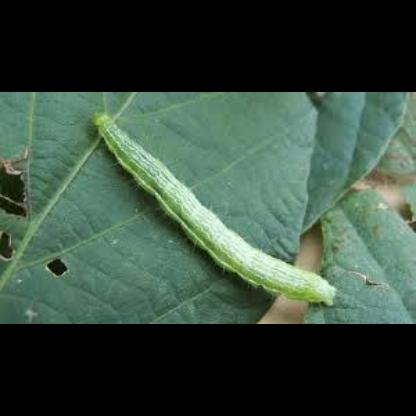oruga: (80, 108, 340, 310)
